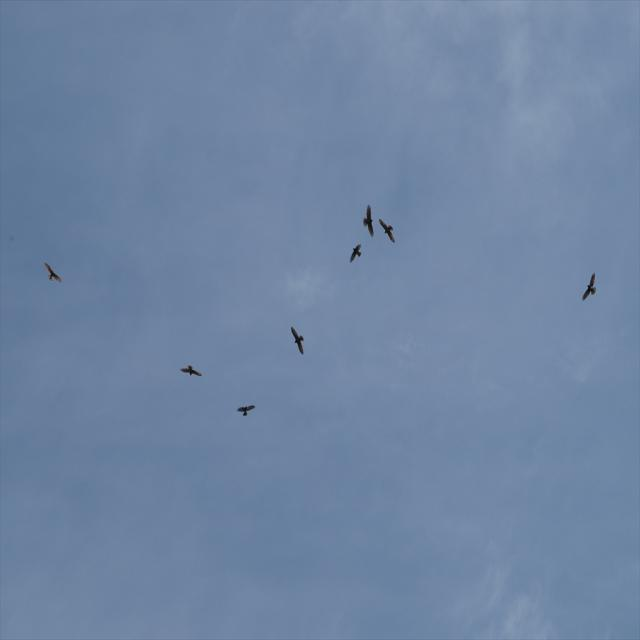bird: (290, 326, 307, 356), (582, 272, 598, 303), (362, 205, 376, 240), (44, 262, 62, 284), (378, 220, 395, 243), (181, 364, 203, 380), (348, 242, 362, 264), (236, 403, 255, 419)
